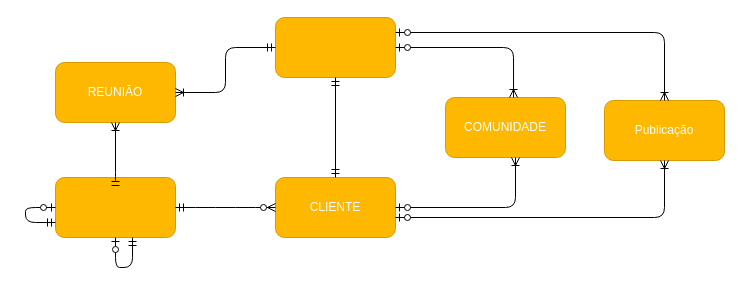
Some shapes in this 742 by 294 pixel diagram are drawn without their labels. The shapes that lost their labels are listed below. From the top down, each one's centre as x and y in pixels, then its label:
[335,47]: LEADS
[115,207]: FUNCIONÁRIO
